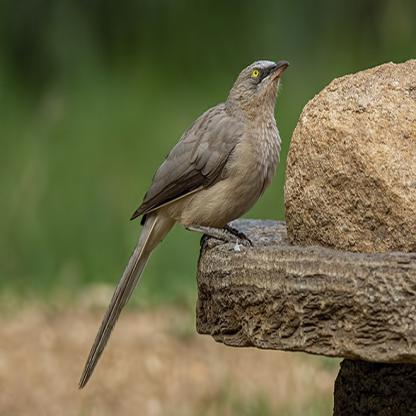Burung: (76, 60, 289, 388)
